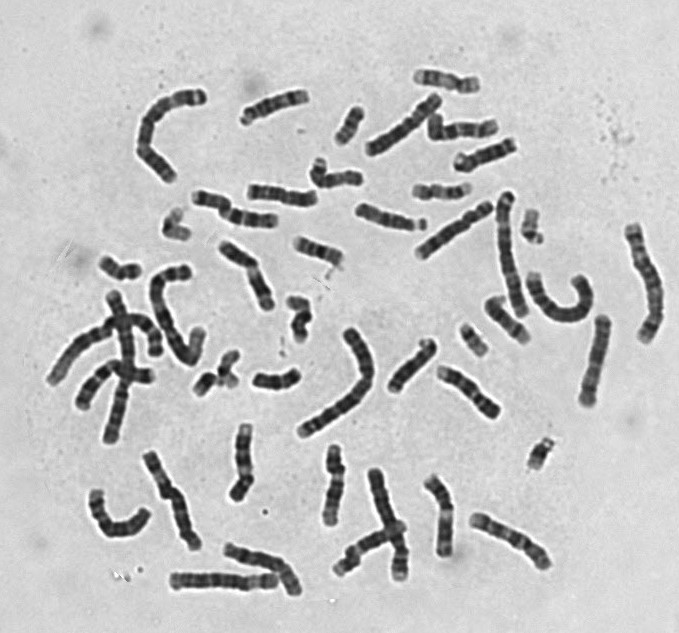chromosomes: (271, 322, 377, 447), (45, 312, 168, 390), (138, 447, 213, 555), (132, 84, 211, 184), (97, 288, 139, 450), (147, 260, 208, 370), (366, 458, 418, 585), (619, 220, 667, 353), (466, 511, 553, 580), (409, 198, 495, 266), (322, 514, 410, 580), (366, 87, 443, 160), (68, 357, 161, 416), (223, 536, 309, 598), (492, 186, 531, 322), (567, 310, 615, 418), (210, 240, 278, 315), (78, 485, 154, 544), (183, 186, 282, 231), (433, 365, 508, 424), (522, 266, 596, 325), (476, 287, 538, 349), (235, 84, 313, 130), (382, 335, 438, 398), (159, 569, 282, 596), (424, 469, 459, 563), (445, 136, 520, 178), (317, 439, 348, 532), (226, 417, 256, 511), (243, 176, 323, 210), (350, 203, 433, 235), (424, 112, 503, 142), (303, 155, 368, 191), (289, 234, 348, 271), (410, 69, 487, 97), (93, 247, 145, 285), (329, 103, 367, 153), (284, 291, 315, 351), (154, 203, 195, 245), (516, 202, 550, 252), (521, 432, 561, 474), (249, 364, 307, 392), (408, 182, 480, 204), (216, 344, 246, 390), (453, 324, 489, 362), (191, 371, 216, 402)
